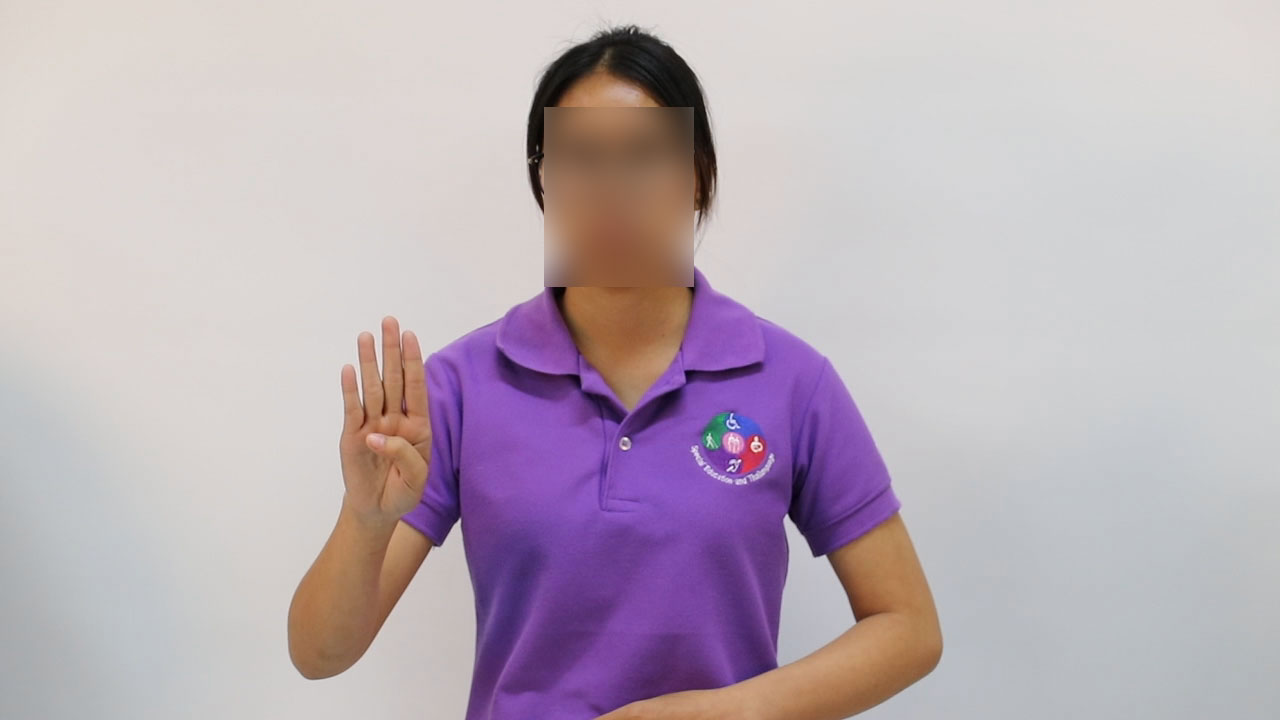bor: (309, 302, 458, 547)
